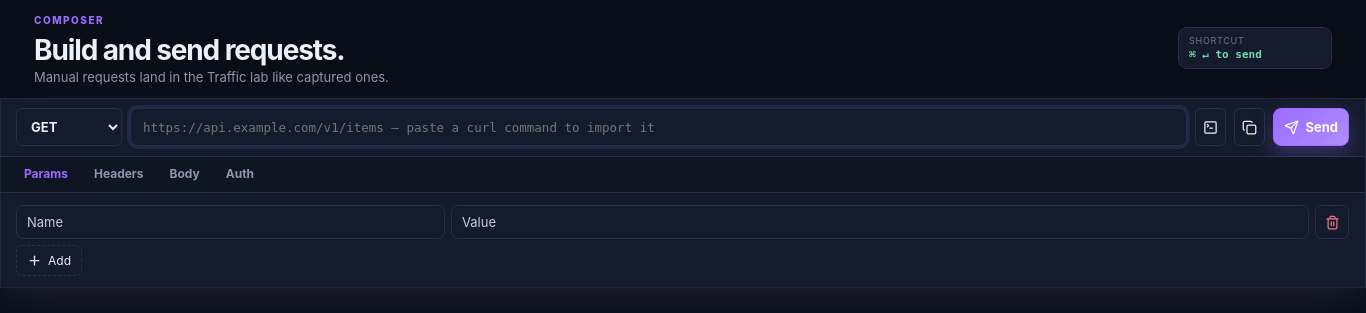
ComposerView › copies the current request as cURL
The width and height of the screenshot is (1366, 313).
Type "https://api.test/v1" into the field named "Request URL" at [659, 127], box top-left (130, 108), bottom-right (1188, 146)
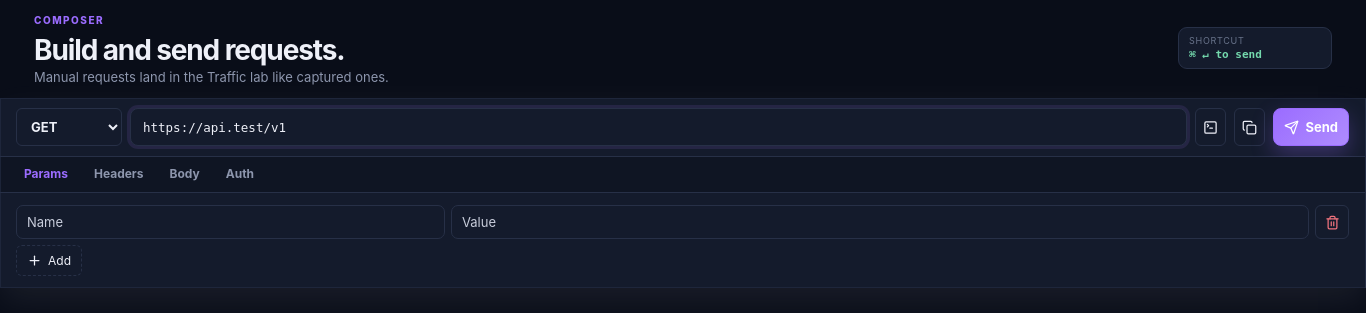
Click the button named "Copy request as cURL" at [1250, 127], box top-left (1234, 108), bottom-right (1266, 146)
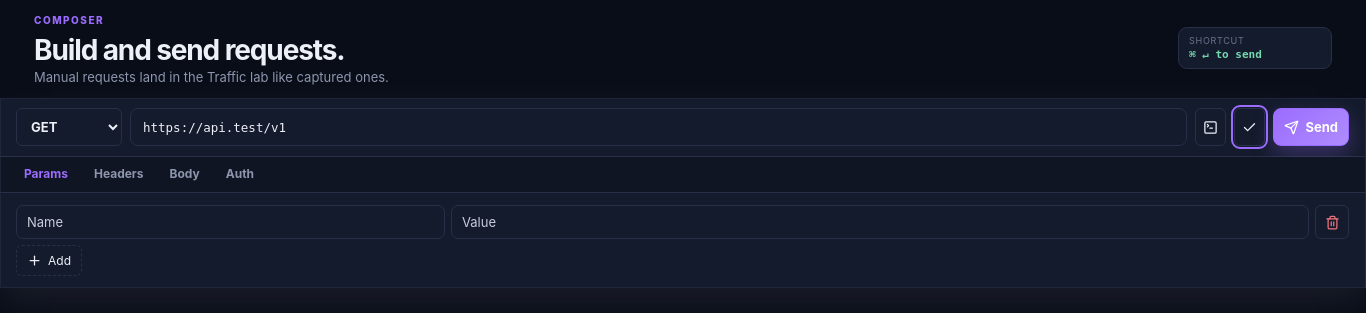
Expected: the button named "cURL copied" is shown, top-left (1234, 108), bottom-right (1266, 146)
